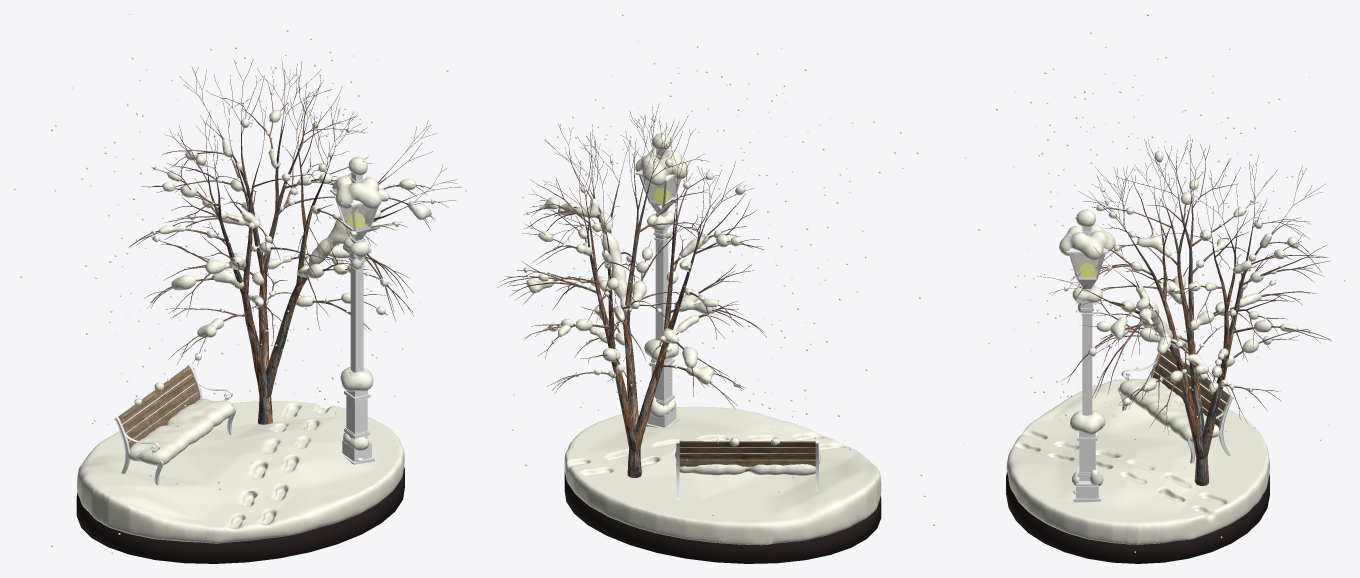
Rendered from snow.compressed.glb.
3 views of the same model, side by side, from view 1: azimuth 30°, elevation 25°; view 2: azimuth 150°, elevation 25°; view 3: azimuth 270°, elevation 25° (orthographic). The views are drawn at different scales.
Parts seen in each view (by area): view 1: Circle.001, tree, SnowBall.005, Circle, Cube, Bench_01, SnowBall.001, SnowBall.004, Plane; view 2: Circle.001, tree, SnowBall.005, Circle, Bench_01, Cube, SnowBall.004, SnowBall.001; view 3: Circle.001, tree, SnowBall.005, Circle, Cube, SnowBall.004, SnowBall.001, Bench_01, Plane.
Boxes of the visible parts, left/top/right/bottom form: Circle.001: left=14, top=14, right=466, bottom=553; tree: left=128, top=59, right=460, bottom=424; SnowBall.005: left=136, top=91, right=434, bottom=360; Circle: left=76, top=467, right=404, bottom=563; Cube: left=330, top=157, right=384, bottom=464; Bench_01: left=114, top=364, right=236, bottom=485; SnowBall.001: left=128, top=378, right=234, bottom=465; SnowBall.004: left=332, top=156, right=381, bottom=461; Plane: left=335, top=195, right=375, bottom=230; Circle.001: left=512, top=14, right=935, bottom=545; tree: left=497, top=103, right=766, bottom=477; SnowBall.005: left=523, top=116, right=745, bottom=395; Circle: left=564, top=471, right=881, bottom=563; Bench_01: left=676, top=438, right=818, bottom=499; Cube: left=635, top=133, right=688, bottom=427; SnowBall.004: left=635, top=132, right=688, bottom=417; SnowBall.001: left=675, top=437, right=820, bottom=475; Circle.001: left=964, top=14, right=1345, bottom=552; tree: left=1037, top=135, right=1331, bottom=485; SnowBall.005: left=1064, top=151, right=1310, bottom=415; Circle: left=1006, top=472, right=1269, bottom=563; Cube: left=1066, top=209, right=1108, bottom=502; SnowBall.004: left=1059, top=209, right=1115, bottom=494; SnowBall.001: left=1119, top=358, right=1219, bottom=441; Bench_01: left=1118, top=349, right=1233, bottom=463; Plane: left=1071, top=254, right=1103, bottom=277.
Size of the model in its own units: 5.82 by 5.92 by 4.92.
8 materials, 3 textured.
